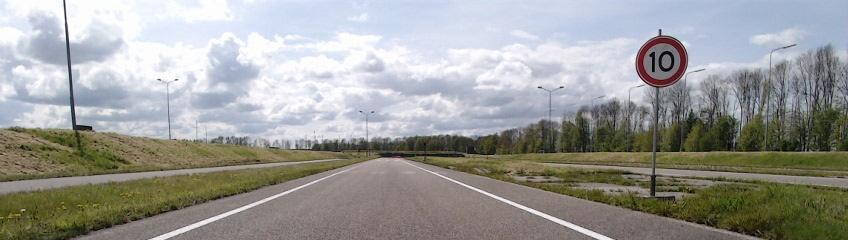Speed-limit-10km-h-: (636, 36, 688, 87)
